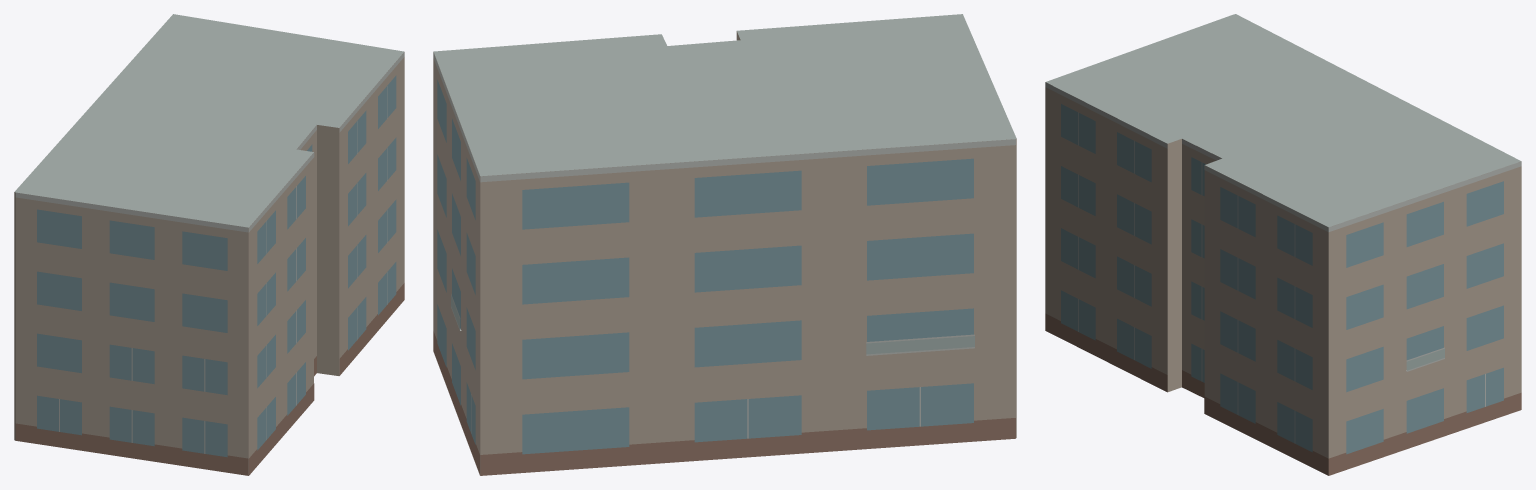
The model's file is survey-upis-32822810.glb.
3 renders of one model, left to right at view 1: azimuth 30°, elevation 25°; view 2: azimuth 150°, elevation 25°; view 3: azimuth 270°, elevation 25°, orthographic. The views are drawn at different scales.
Visible parts, largest first — view 1: survey-upis-32822810.tmp; view 2: survey-upis-32822810.tmp; view 3: survey-upis-32822810.tmp.
Boxes of the visible parts, x1,y1,x2,y2 form: survey-upis-32822810.tmp: (14,14,404,475); survey-upis-32822810.tmp: (433,14,1016,475); survey-upis-32822810.tmp: (1045,14,1521,475).
Bounding box in the file's own units: 22.45 × 12.2 × 21.19.
